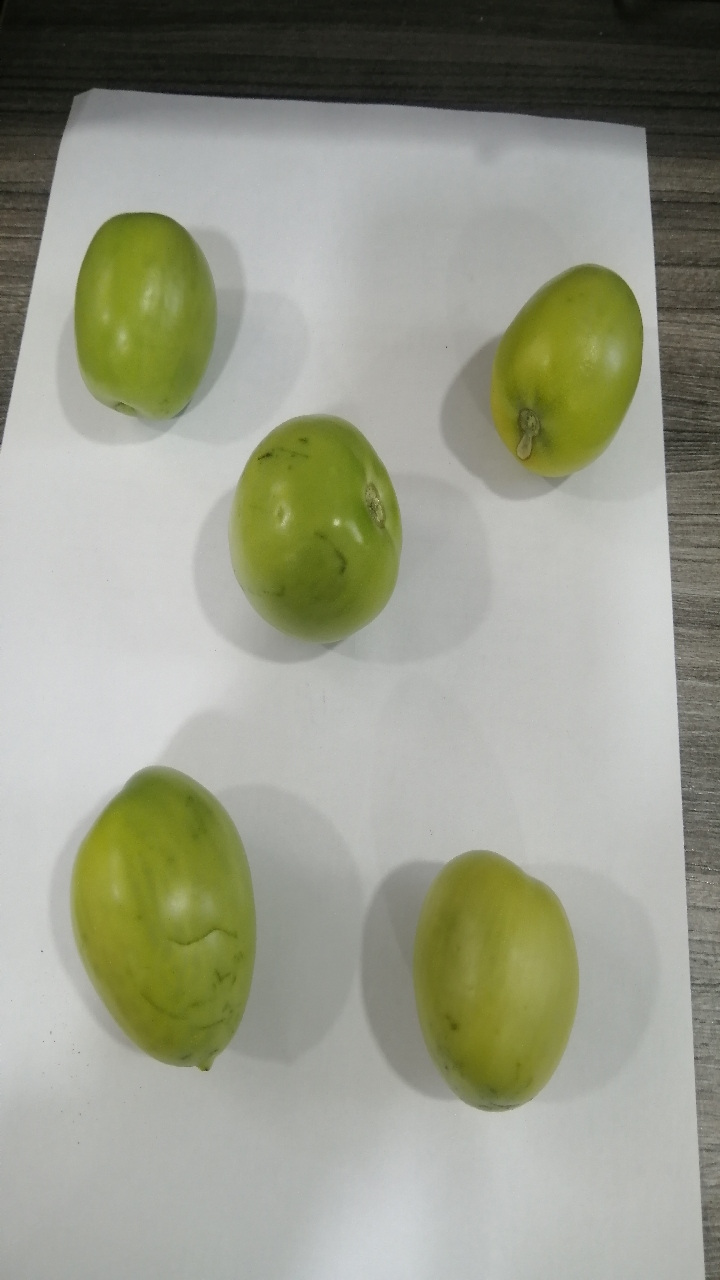tomateVerde: (49, 734, 272, 1092), (451, 245, 671, 500), (49, 166, 248, 446), (403, 828, 588, 1128), (212, 389, 415, 652)
